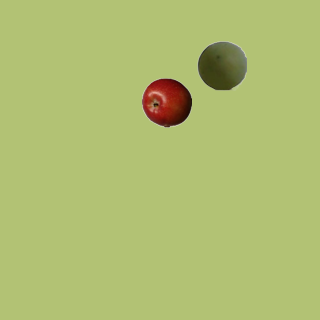Apple Braeburn: (141, 77, 191, 127)
Grape White 4: (196, 40, 246, 90)
